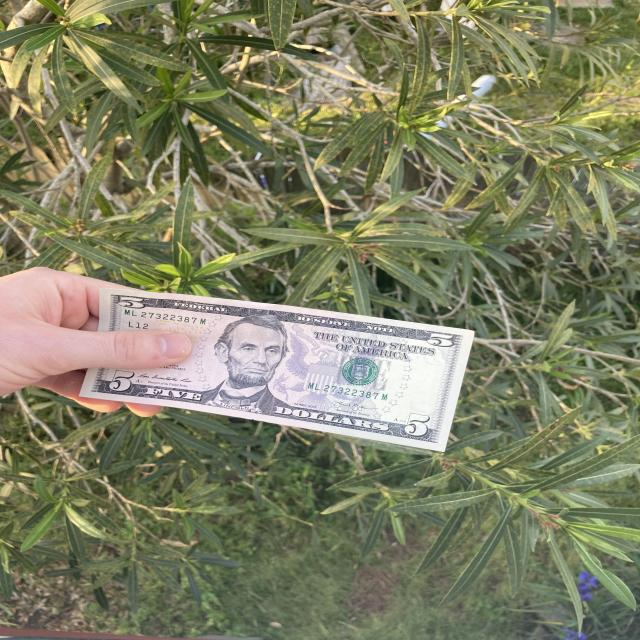five: (79, 288, 475, 452)
